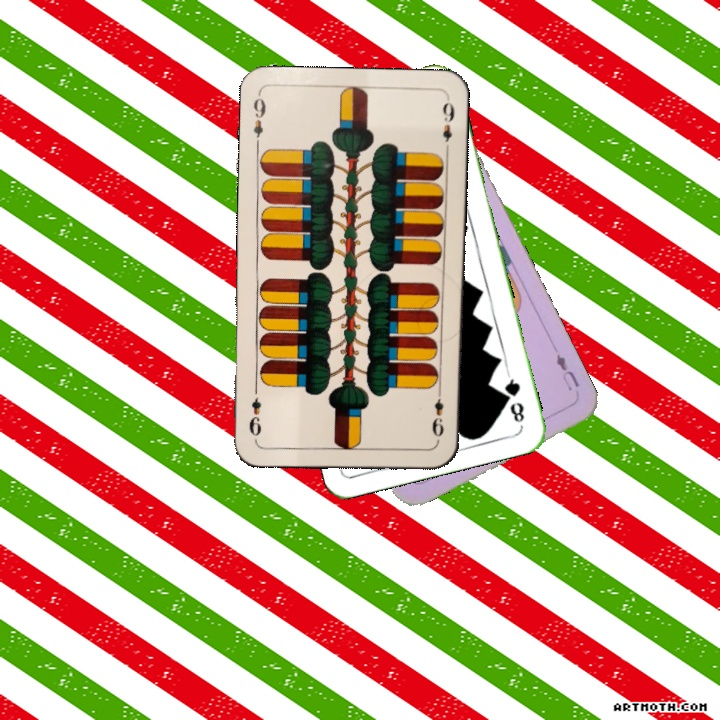E9: (249, 91, 268, 150), (427, 385, 446, 439)
EU: (551, 350, 582, 394)
G8: (500, 370, 527, 425)
